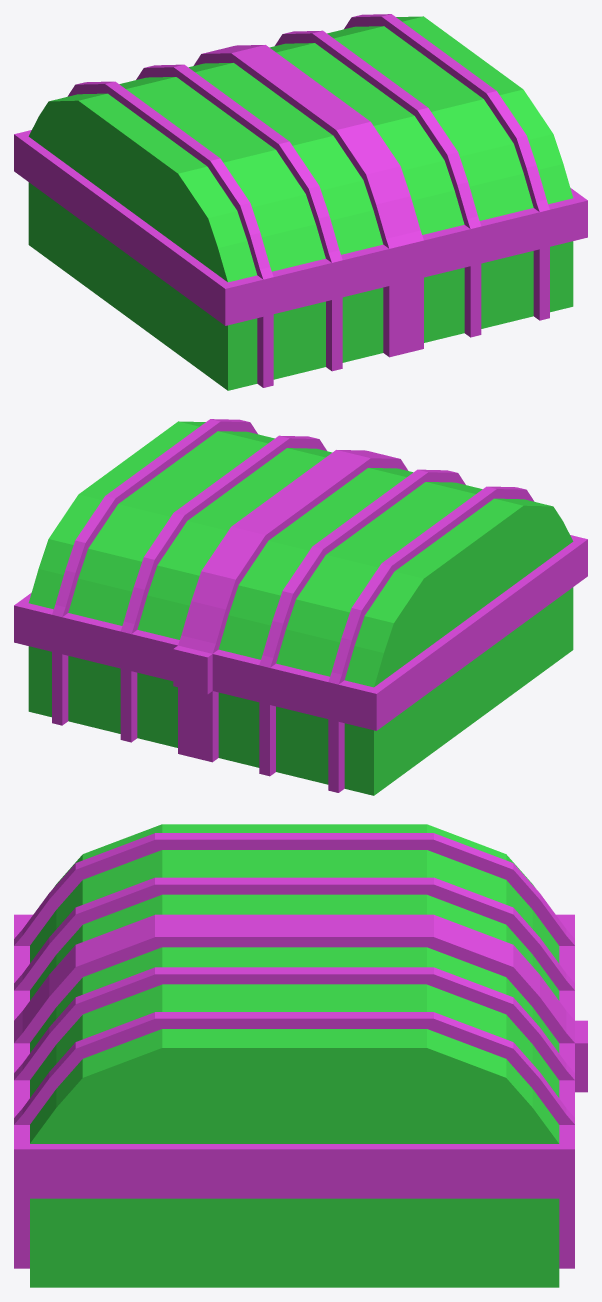
The model's file is chest.fbx.
3 renders of one model, top to bottom at view 1: azimuth 30°, elevation 25°; view 2: azimuth 150°, elevation 25°; view 3: azimuth 270°, elevation 25°, orthographic. The views are drawn at different scales.
Parts seen in each view (by area): view 1: Chest; view 2: Chest; view 3: Chest.
Part boxes in pixels (x1=…): Chest: x1=14, y1=14, x2=587, y2=390; Chest: x1=14, y1=419, x2=587, y2=795; Chest: x1=14, y1=824, x2=587, y2=1287.
Size of the model in its own units: 2.1 by 2.17 by 1.04.
